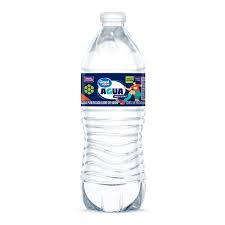Botella: (81, 13, 145, 211)
